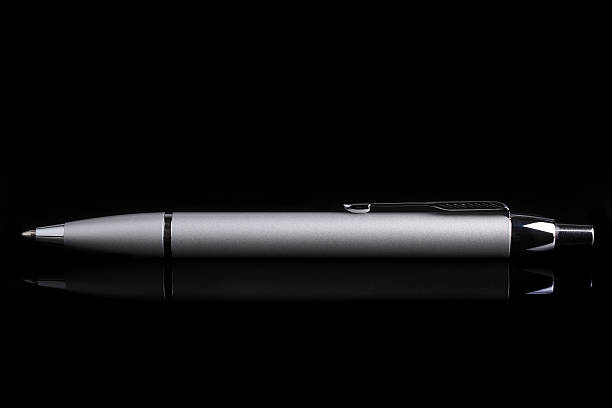pen: (14, 158, 601, 302)
